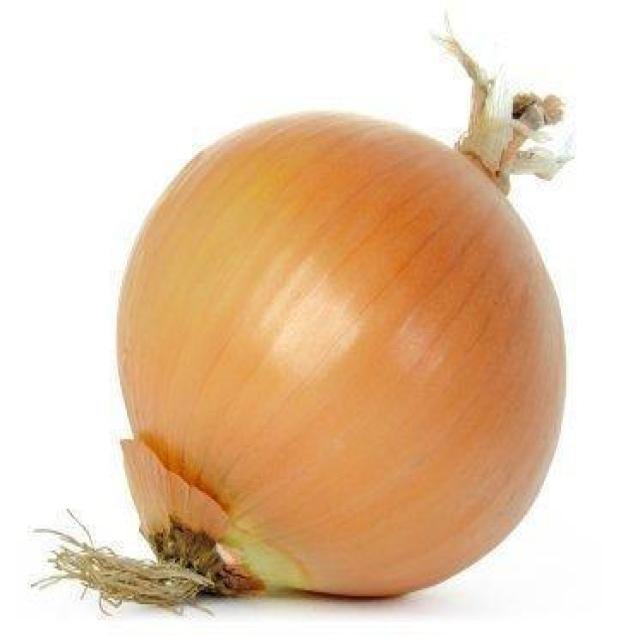Onion: (26, 6, 570, 618)
